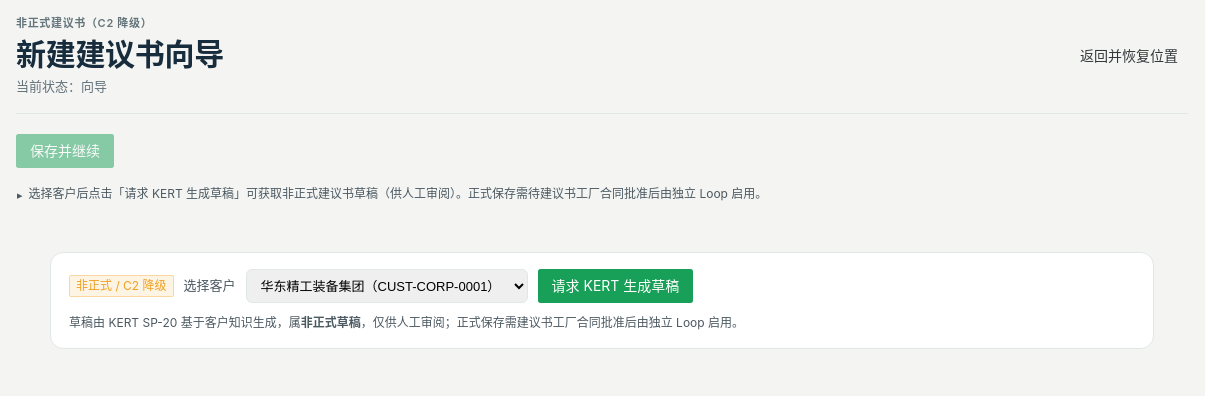
Test case: P24 ProposalWizardView C2 degrade › shows the named error when KERT fails (no silent empty draft)
The width and height of the screenshot is (1205, 396).
Click the button with test id "p24-generate" at (616, 286), box [538,269,693,303]
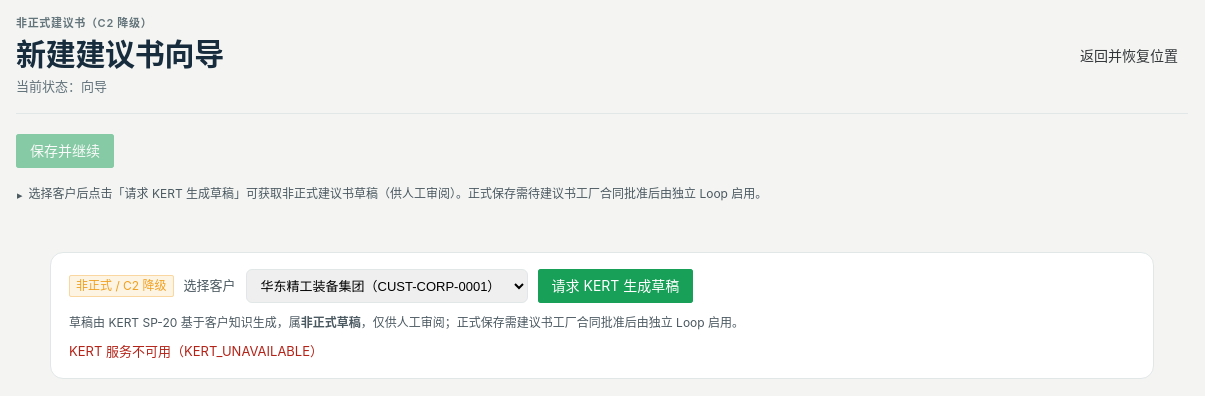
Expected: the text with test id "p24-skill-error" shows "KERT_UNAVAILABLE", [69,343,323,359]
